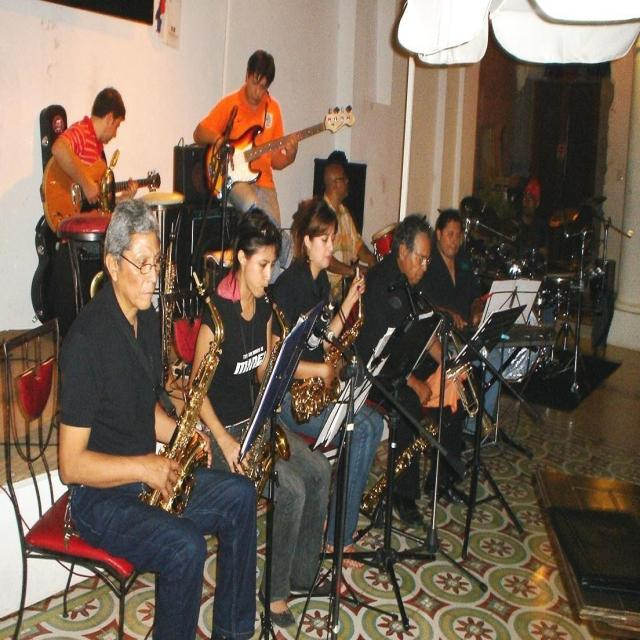drums: (446, 194, 621, 399)
guitar: (39, 158, 162, 240)
saxophone: (139, 270, 225, 517), (291, 263, 363, 428), (235, 295, 292, 501)
